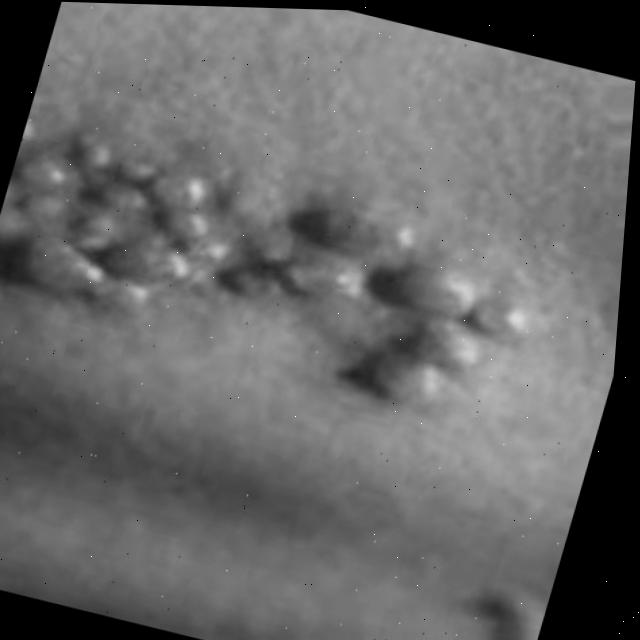Shingles: (0, 104, 574, 426)
